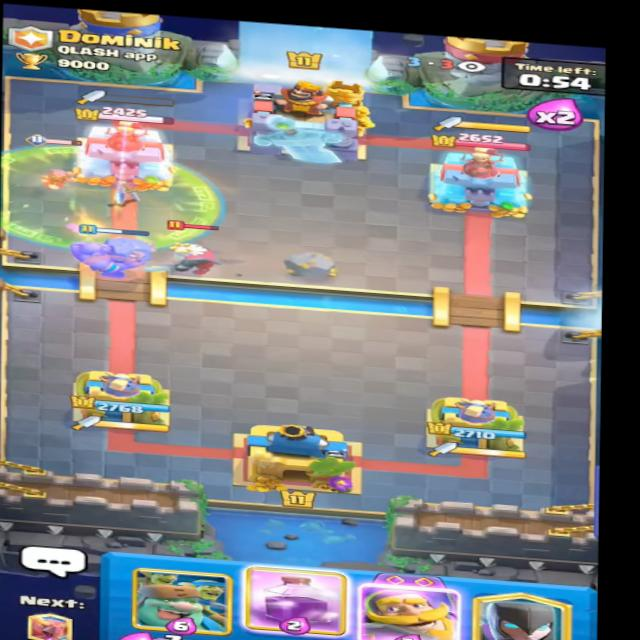Evowizard: (25, 134, 87, 199)
Royalghost: (159, 222, 235, 277)
